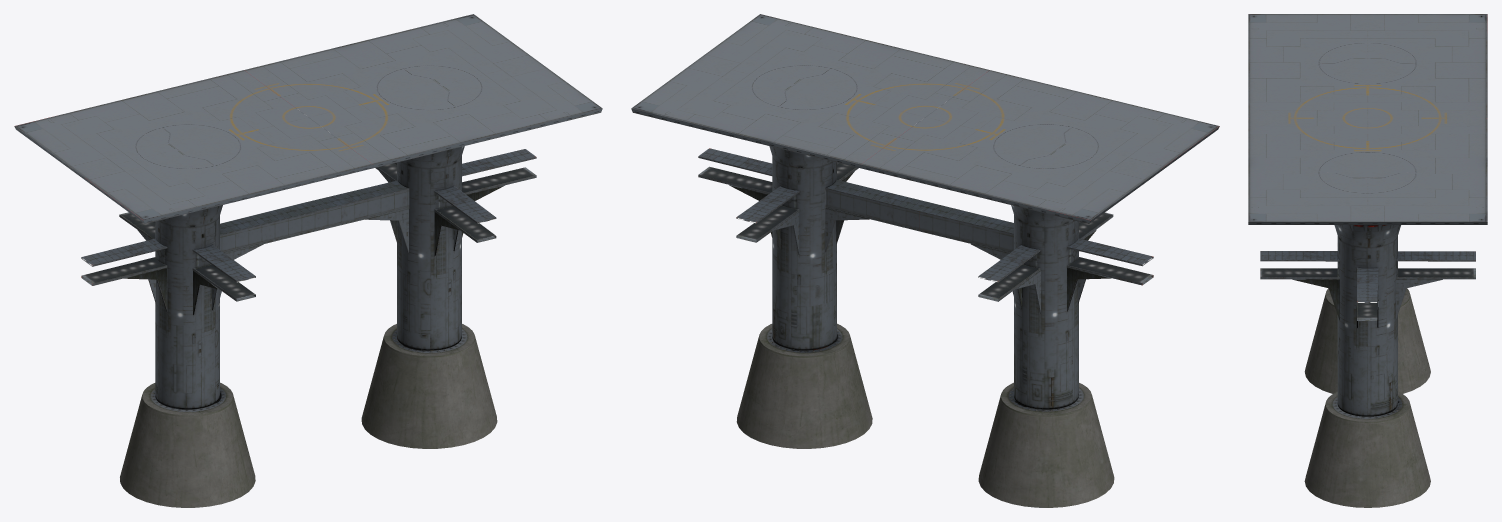
The model's file is LandingPlatform.fbx.
3 views of the same model, side by side, from view 1: azimuth 30°, elevation 25°; view 2: azimuth 150°, elevation 25°; view 3: azimuth 270°, elevation 25° (orthographic). The views are drawn at different scales.
Parts seen in each view (by area): view 1: Landing Platform; view 2: Landing Platform; view 3: Landing Platform.
Boxes of the visible parts, bbox=[...] form: Landing Platform: bbox=[14, 14, 602, 507]; Landing Platform: bbox=[631, 14, 1219, 507]; Landing Platform: bbox=[1248, 14, 1487, 507].
Bounding box in the file's own units: 6247 × 4319 × 3040.
